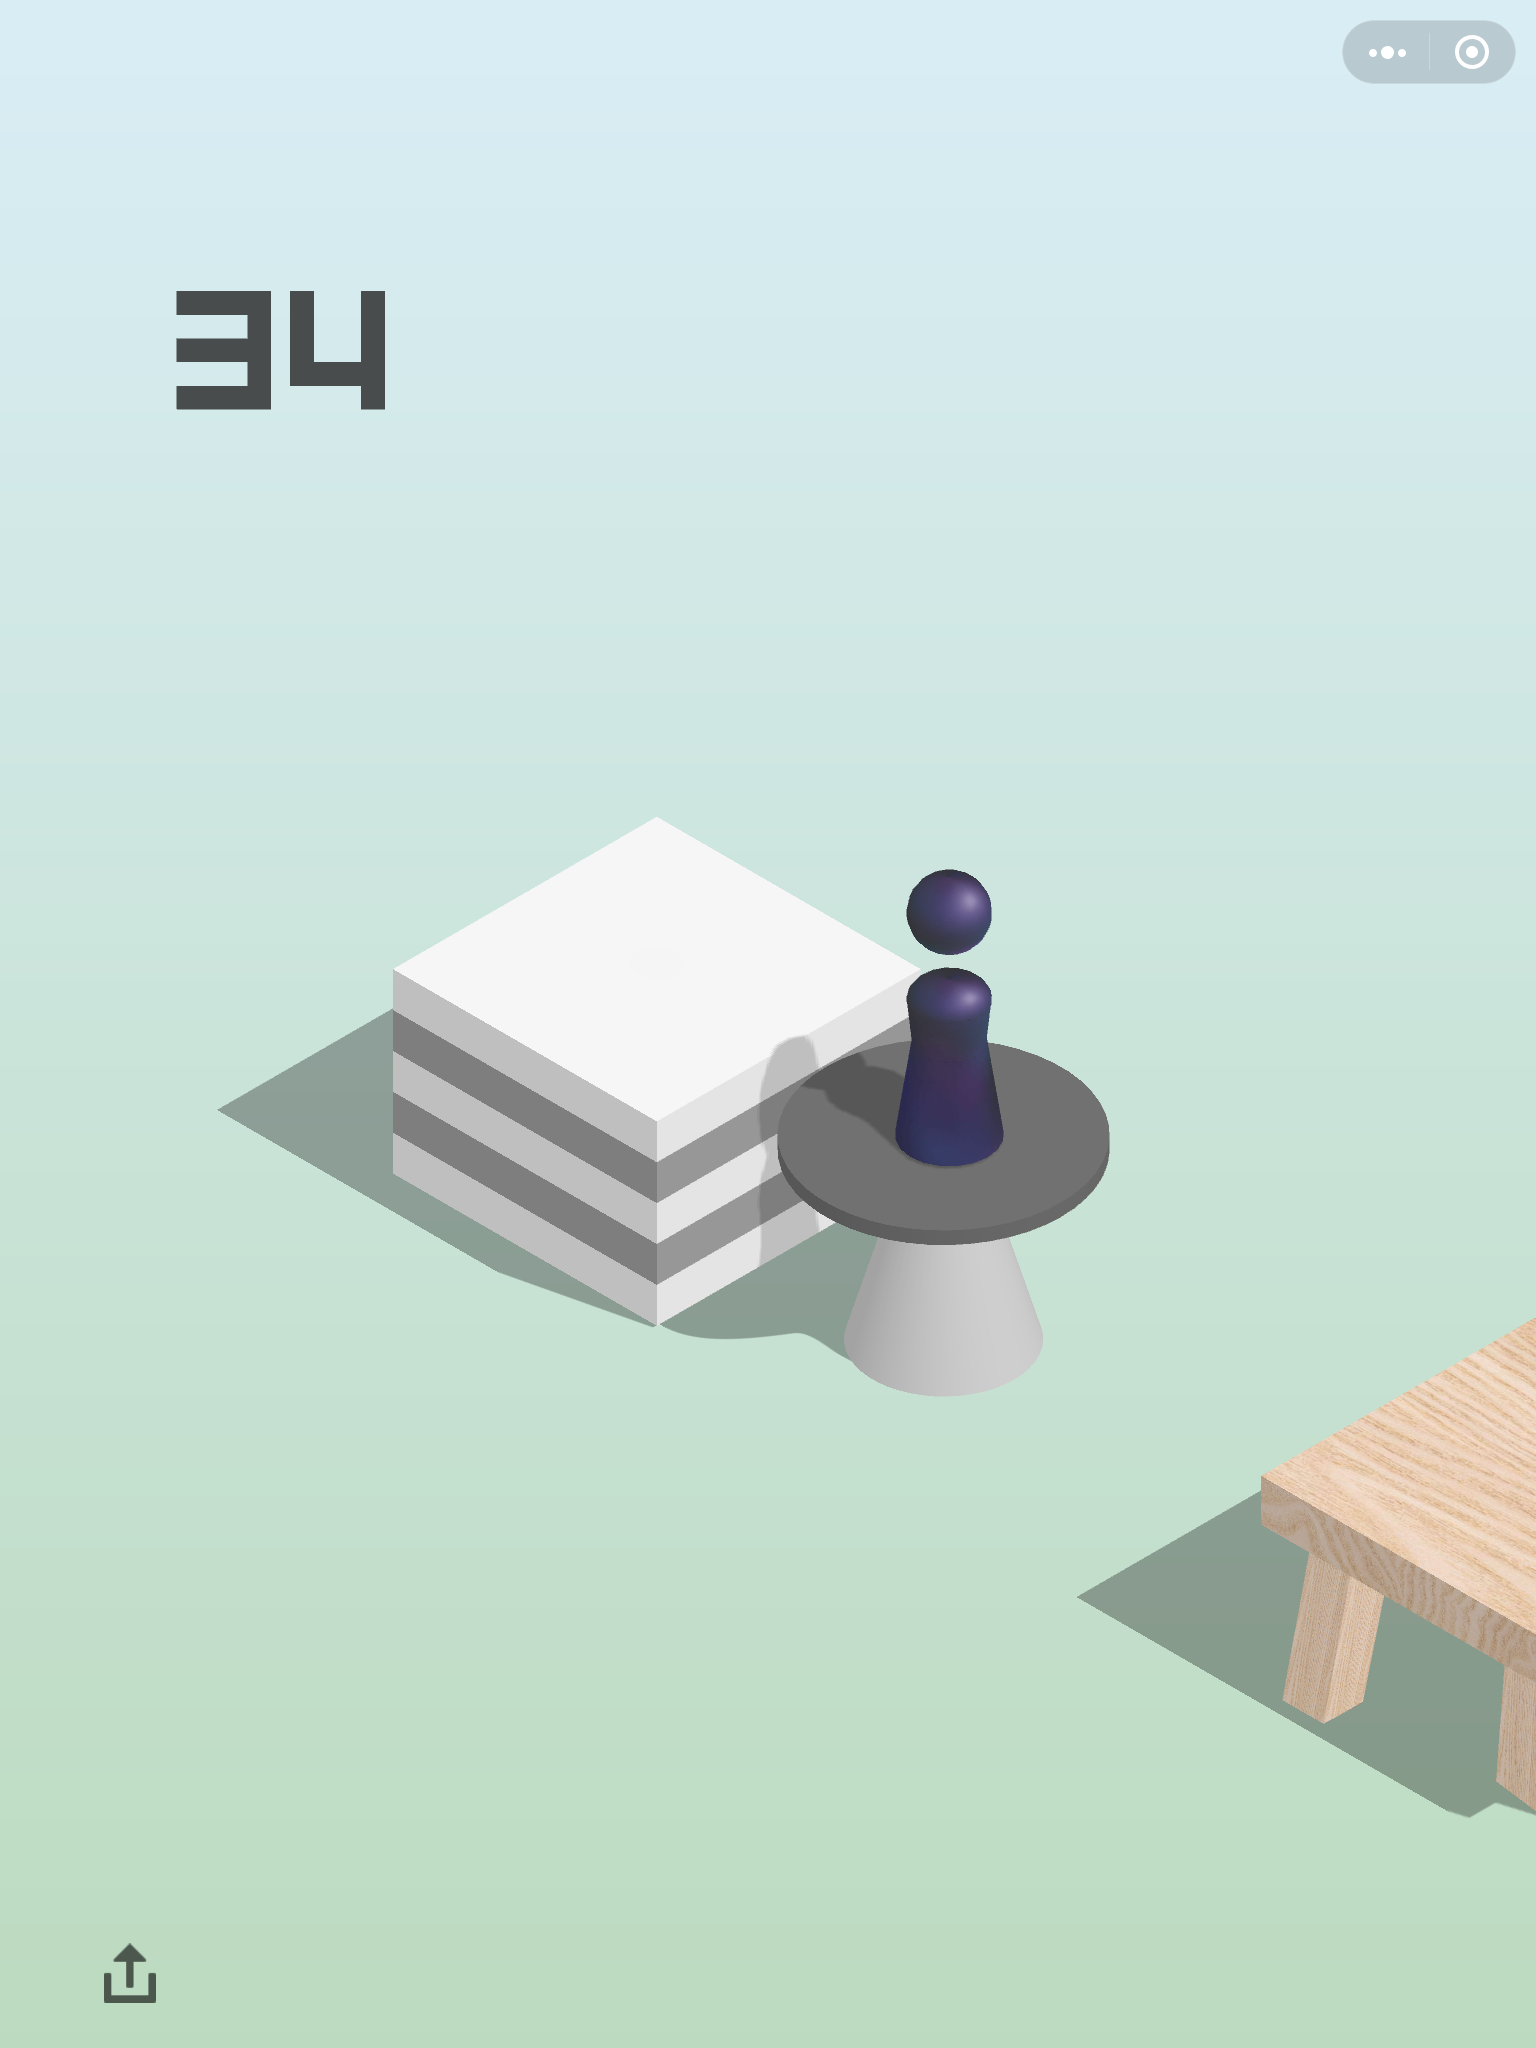c: (773, 1034, 1117, 1403)
f: (386, 806, 926, 1335), (1254, 1305, 1536, 1822)
r: (892, 866, 1012, 1171)
